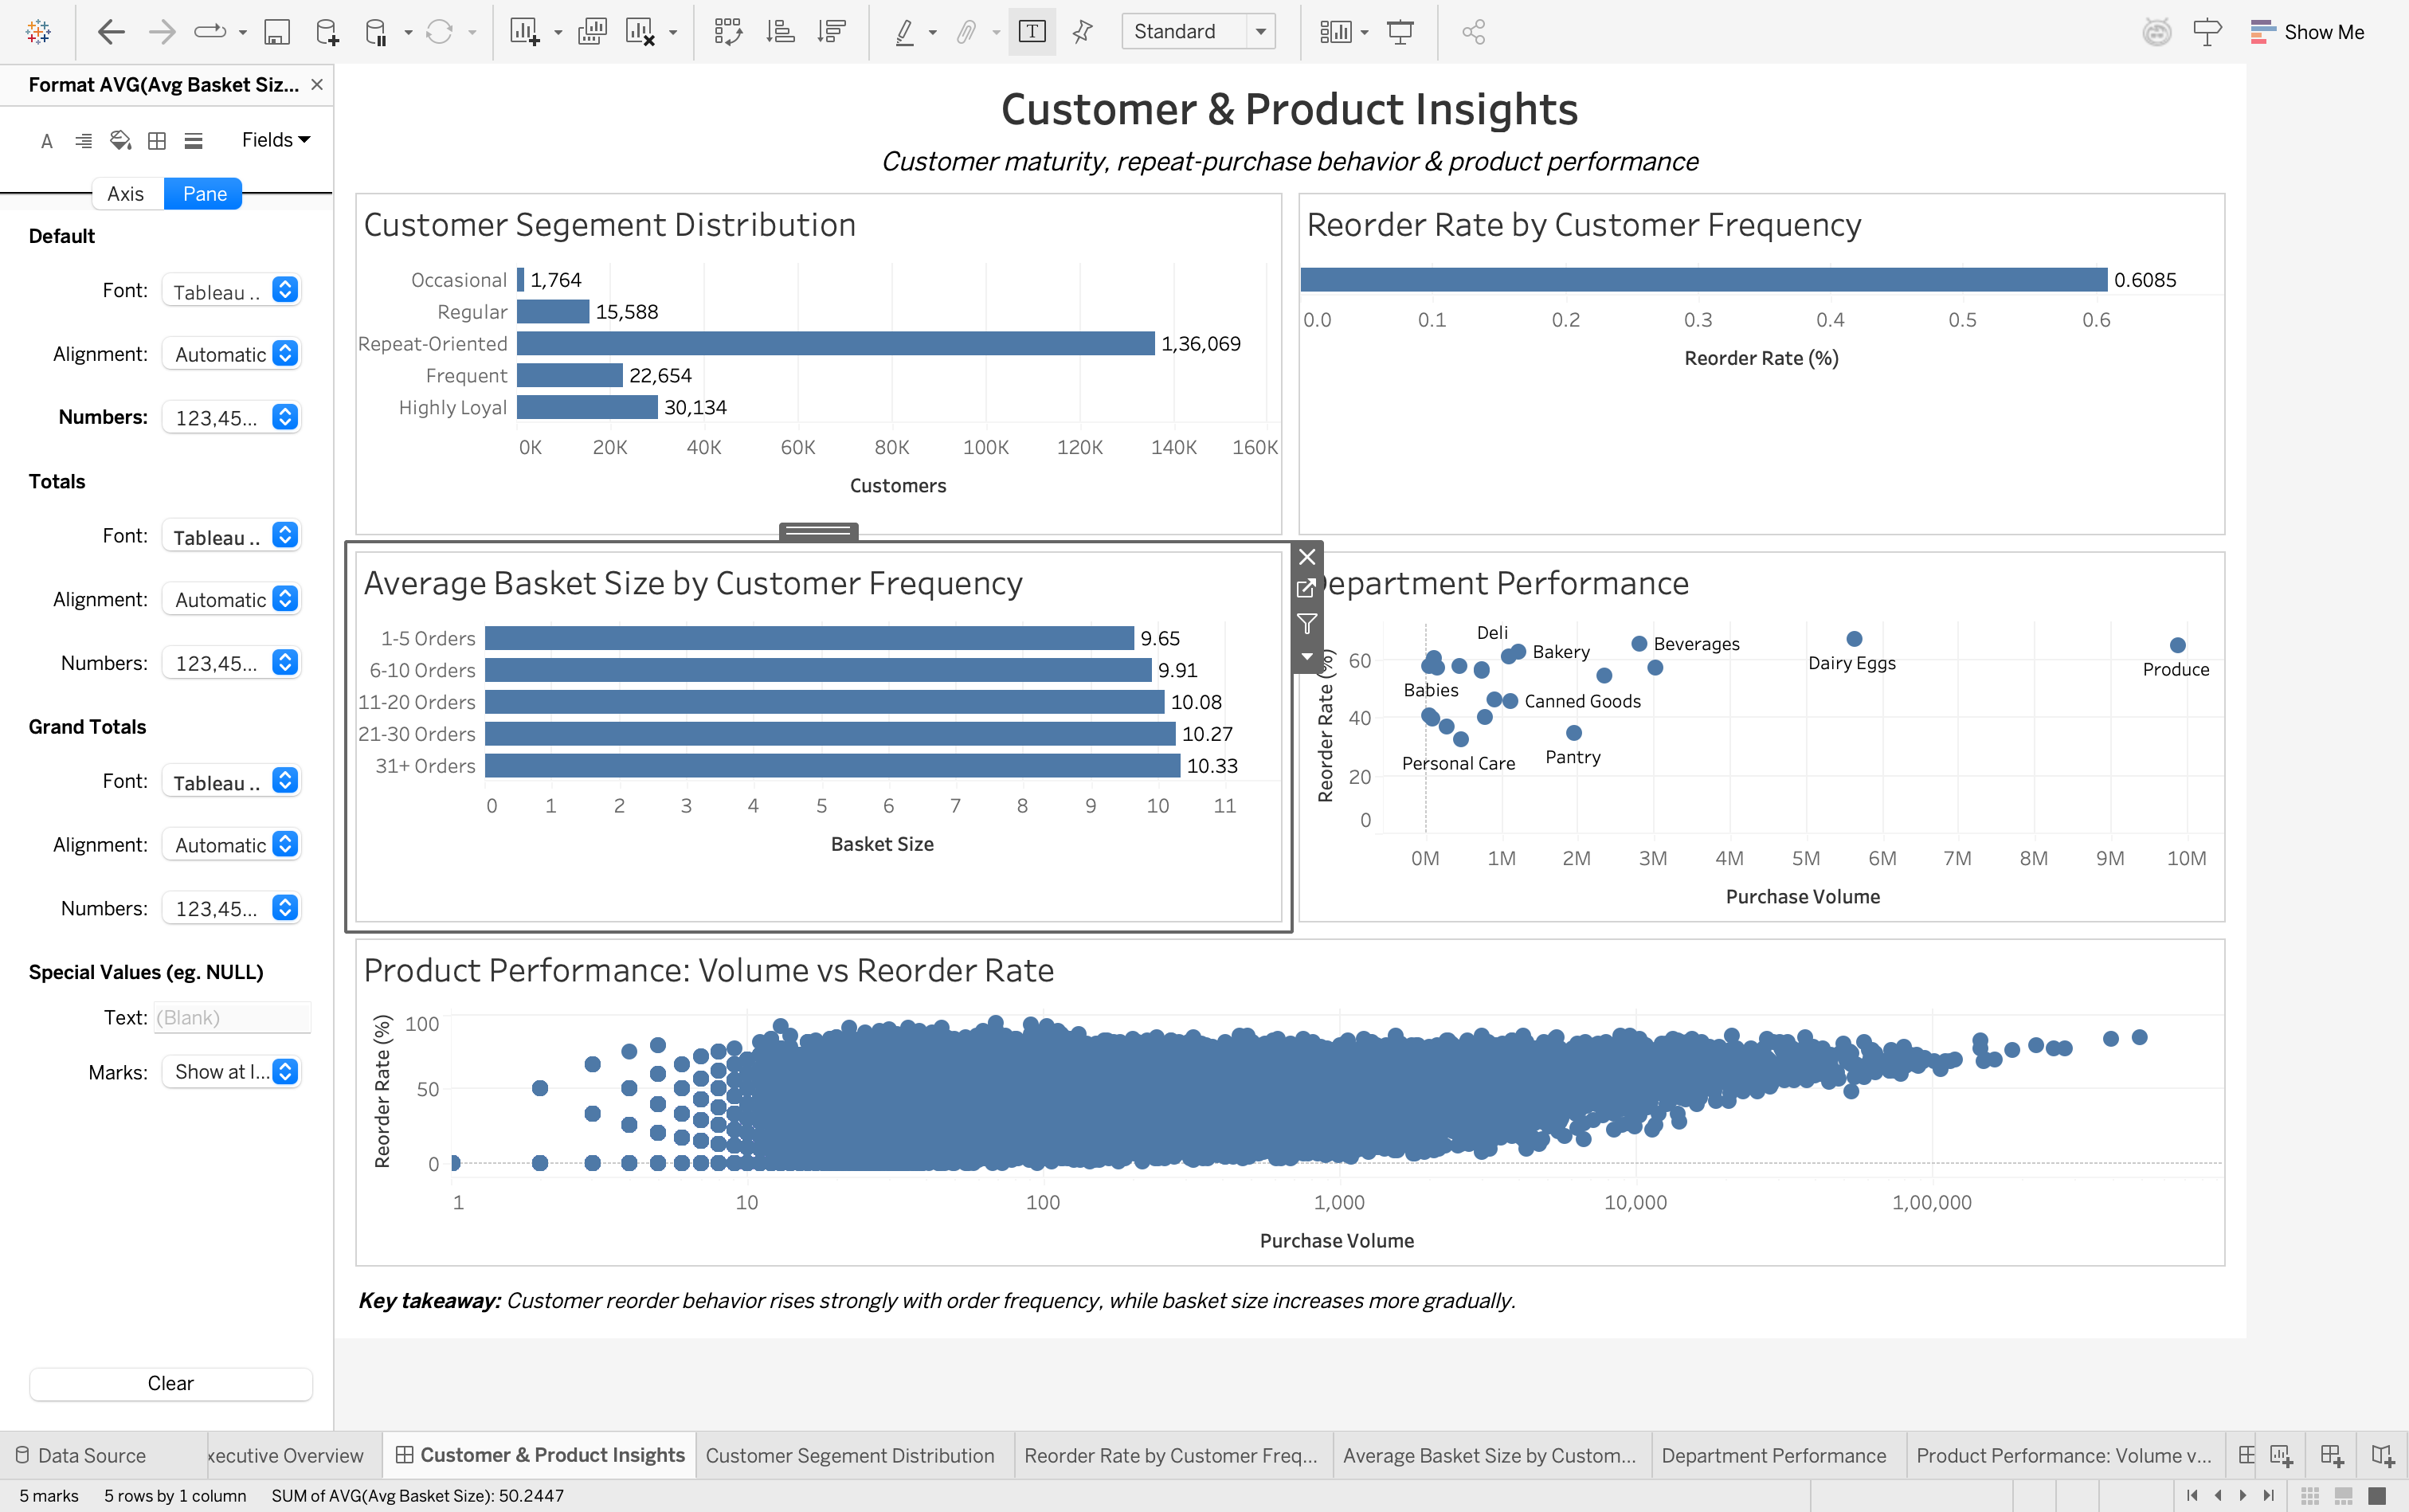

The page's visual inventory and layout, read from the dashboard file:
{"tool":"tableau","page":{"name":"Customer & Product Insights","canvas":[1200,800],"ordinal":0},"visuals":[{"type":"title","box":[8,8,1184,39]},{"type":"text","box":[8,47,1184,29]},{"type":"worksheet","title":"Customer Segement Distribution","mark":"Automatic","rows":["customer_segment"],"cols":["customers"],"box":[8,76,592,225.1]},{"type":"worksheet","title":"Reorder Rate by Customer Frequency","mark":"Automatic","rows":["order_frequency_band"],"cols":["Calculation_1788534925406209"],"box":[600,76,592,225.1]},{"type":"worksheet","title":"Average Basket Size by Customer Frequency","mark":"Automatic","rows":["order_frequency_band"],"cols":["avg_basket_size"],"box":[8,301.1,592,243.2]},{"type":"worksheet","title":"Department Performance","mark":"Circle","rows":["reorder_rate_percent"],"cols":["total_purchases"],"box":[600,301.1,592,243.2]},{"type":"worksheet","title":"Product Performance: Volume vs Reorder Rate","mark":"Circle","rows":["reorder_rate_percent"],"cols":["total_purchases"],"box":[8,544.3,1184,215.7]},{"type":"text","box":[8,760,1184,32]}]}

Visuals, with their boxes on the page's 1200x800 design canvas (x1, y1, x2, y2). These are canvas units, not pixel positions in the 2409x1512 screenshot, which may show the page scaled, cropped or inside an application window:
title: {"x1": 8, "y1": 8, "x2": 1192, "y2": 47}
text: {"x1": 8, "y1": 47, "x2": 1192, "y2": 76}
"Customer Segement Distribution" worksheet: {"x1": 8, "y1": 76, "x2": 600, "y2": 301}
"Reorder Rate by Customer Frequency" worksheet: {"x1": 600, "y1": 76, "x2": 1192, "y2": 301}
"Average Basket Size by Customer Frequency" worksheet: {"x1": 8, "y1": 301, "x2": 600, "y2": 544}
"Department Performance" worksheet (Circle marks): {"x1": 600, "y1": 301, "x2": 1192, "y2": 544}
"Product Performance: Volume vs Reorder Rate" worksheet (Circle marks): {"x1": 8, "y1": 544, "x2": 1192, "y2": 760}
text: {"x1": 8, "y1": 760, "x2": 1192, "y2": 792}
